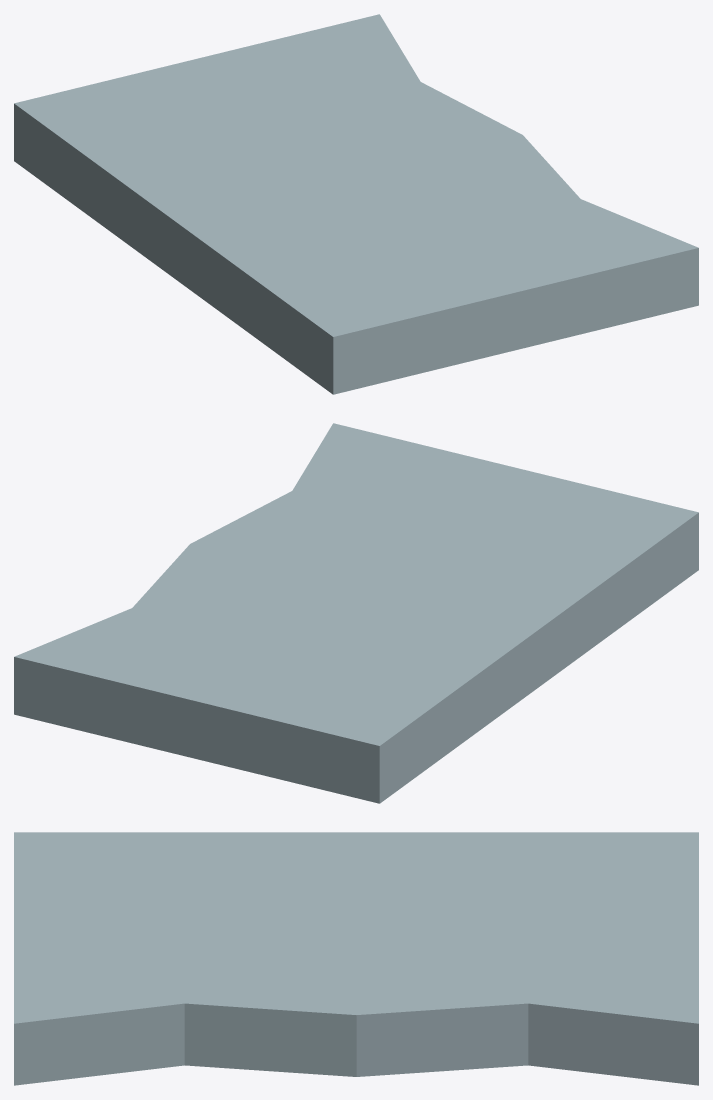
Rendered from Left_BrokenRoof.fbx.
3 views of the same model, one above another, from view 1: azimuth 30°, elevation 25°; view 2: azimuth 150°, elevation 25°; view 3: azimuth 270°, elevation 25° (orthographic). The views are drawn at different scales.
Parts seen in each view (by area): view 1: Left_BrokenRoof; view 2: Left_BrokenRoof; view 3: Left_BrokenRoof.
Part boxes in pixels (x1,y1,x2,y2): Left_BrokenRoof: (14,14,698,394); Left_BrokenRoof: (14,423,698,803); Left_BrokenRoof: (14,832,698,1085).
Bounding box in the file's own units: 661 × 99.76 × 1000.
